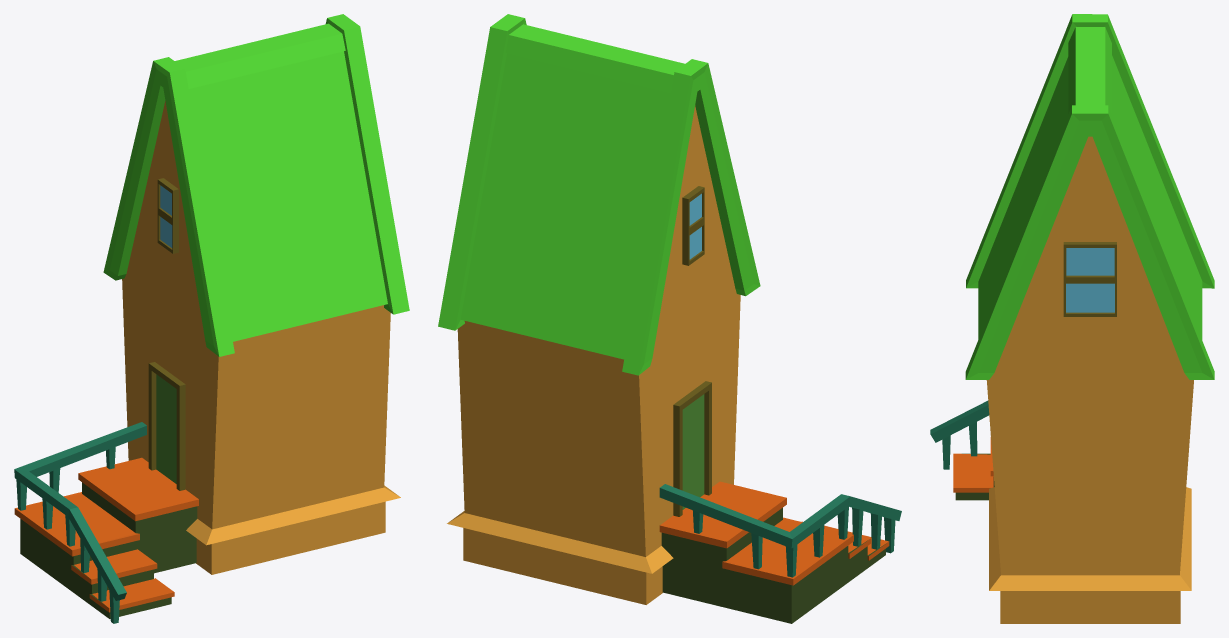
The model's file is Mary.fbx.
3 renders of one model, left to right at view 1: azimuth 30°, elevation 25°; view 2: azimuth 150°, elevation 25°; view 3: azimuth 270°, elevation 25°, orthographic. The views are drawn at different scales.
Visible parts, largest first — view 1: Cube.006; view 2: Cube.006; view 3: Cube.006.
Part boxes in pixels (bbox=[...]): Cube.006: bbox=[14, 14, 409, 623]; Cube.006: bbox=[438, 14, 901, 623]; Cube.006: bbox=[930, 14, 1214, 623].
Bounding box in the file's own units: 1934 × 2855 × 1429.
